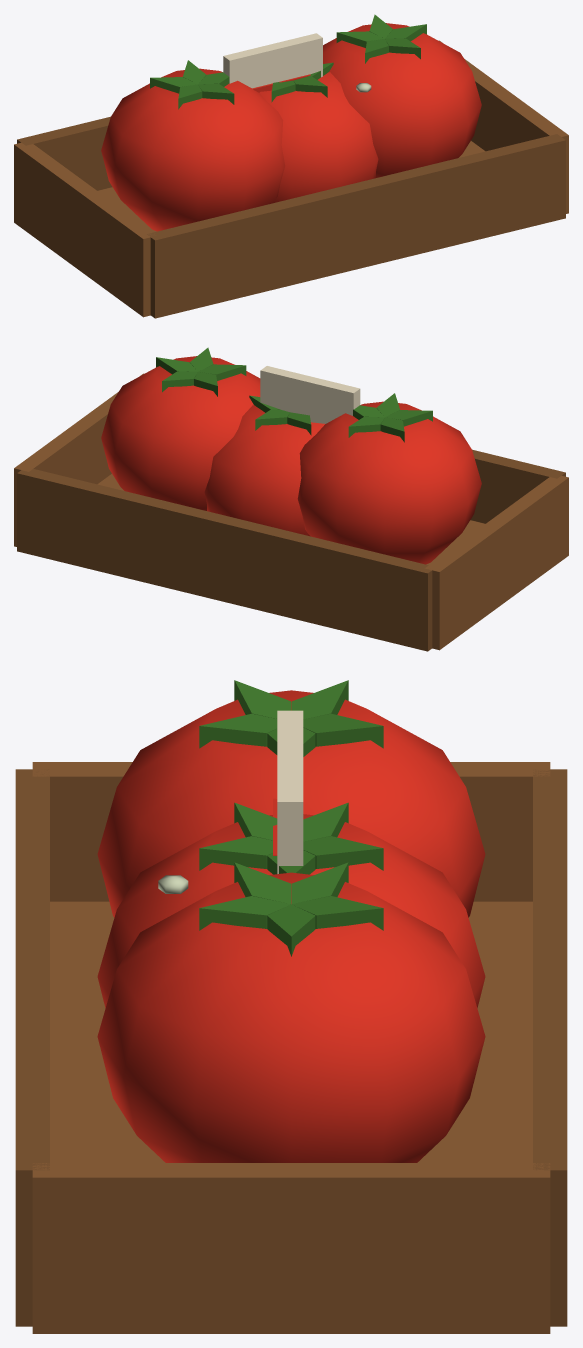
File: Veg_Tomato.fbx
3 views of the same model, one above another, from view 1: azimuth 30°, elevation 25°; view 2: azimuth 150°, elevation 25°; view 3: azimuth 270°, elevation 25° (orthographic). The views are drawn at different scales.
Parts seen in each view (by area): view 1: Veg_Tomato__Stack, Veg_Tomato, Veg_Tomato__Seed; view 2: Veg_Tomato__Stack, Veg_Tomato, Veg_Tomato__Seed; view 3: Veg_Tomato__Stack, Veg_Tomato, Veg_Tomato__Seed.
Boxes of the visible parts, x1,y1,x2,y2 form: Veg_Tomato__Stack: (14, 14, 568, 318); Veg_Tomato: (259, 62, 378, 203); Veg_Tomato__Seed: (223, 33, 322, 92); Veg_Tomato__Stack: (14, 347, 568, 651); Veg_Tomato: (204, 395, 324, 536); Veg_Tomato__Seed: (260, 366, 360, 423); Veg_Tomato__Stack: (15, 680, 567, 1333); Veg_Tomato: (97, 802, 485, 1007); Veg_Tomato__Seed: (273, 710, 303, 873).
Size of the model in its own units: 0.228 by 0.09 by 0.128.
